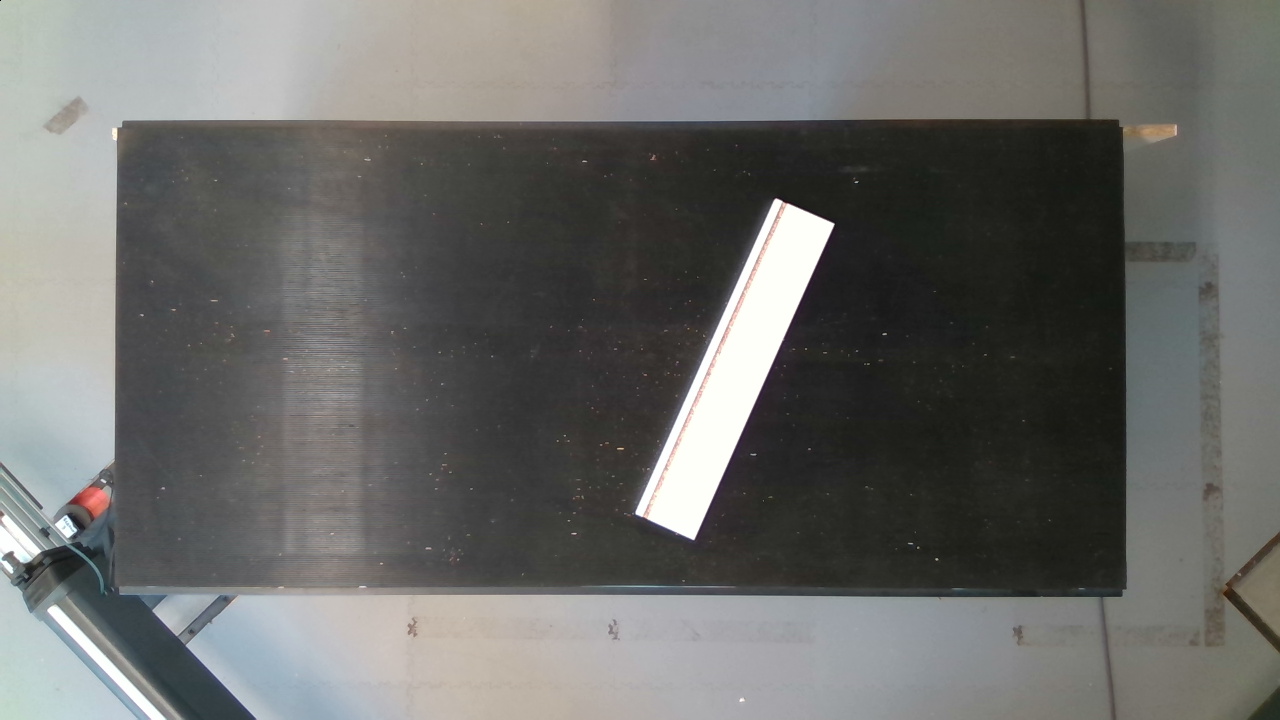part1: (627, 161, 847, 569)
